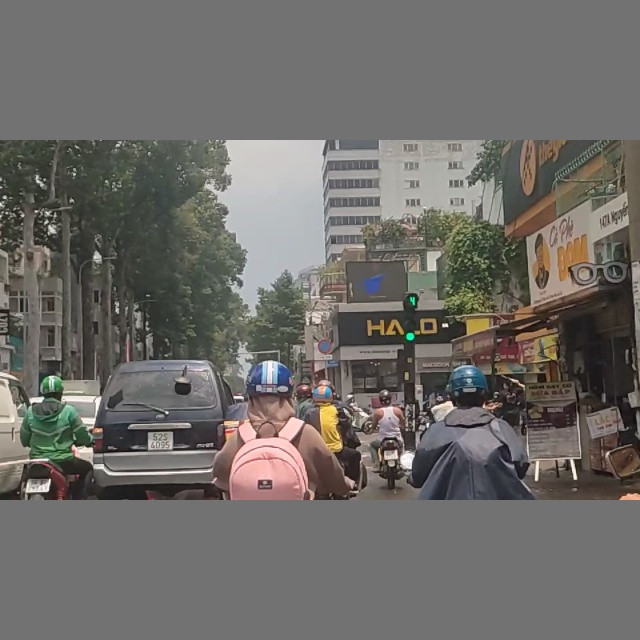P.131a: (317, 340, 332, 355)
